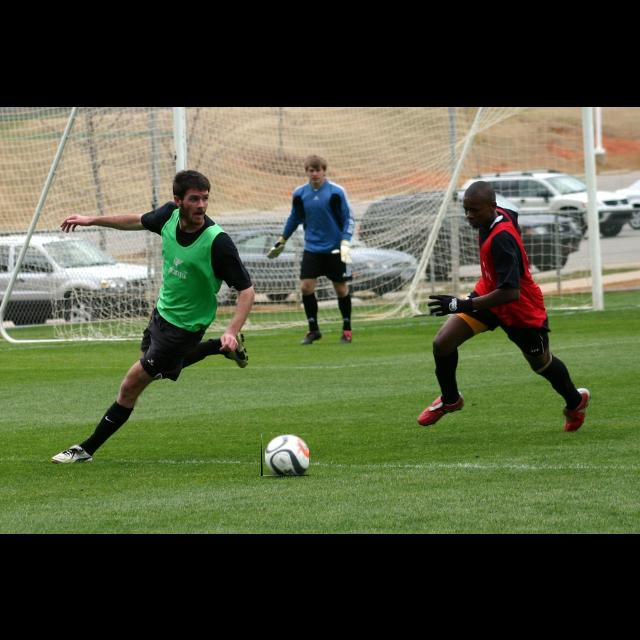Football: (261, 434, 309, 476)
